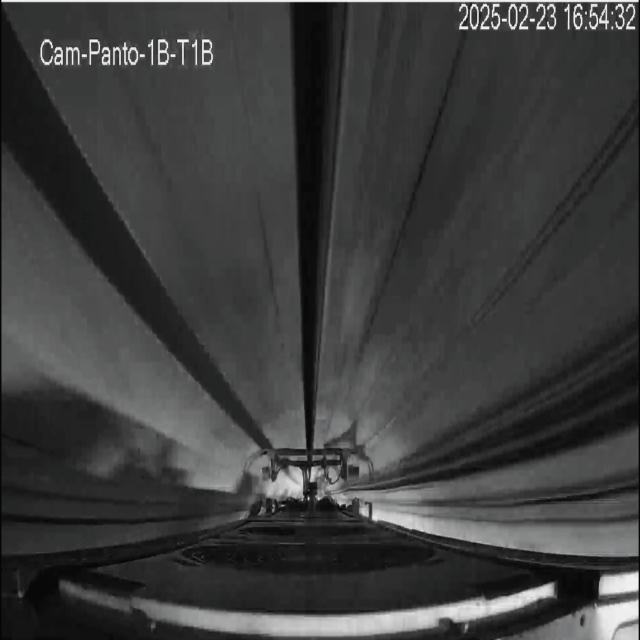Camera Stamp: (35, 28, 218, 69)
Date Stamp: (458, 3, 636, 33)
No - Spark: (190, 402, 389, 502), (170, 436, 286, 503)
